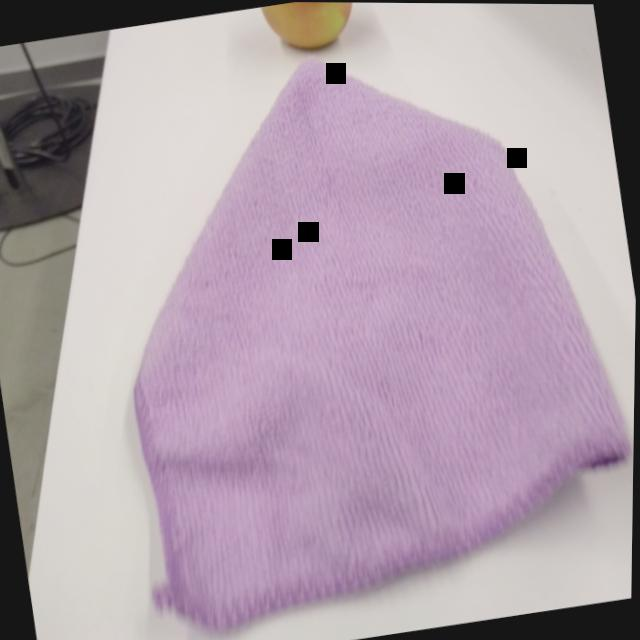cloth_opl: (73, 2, 640, 640)
